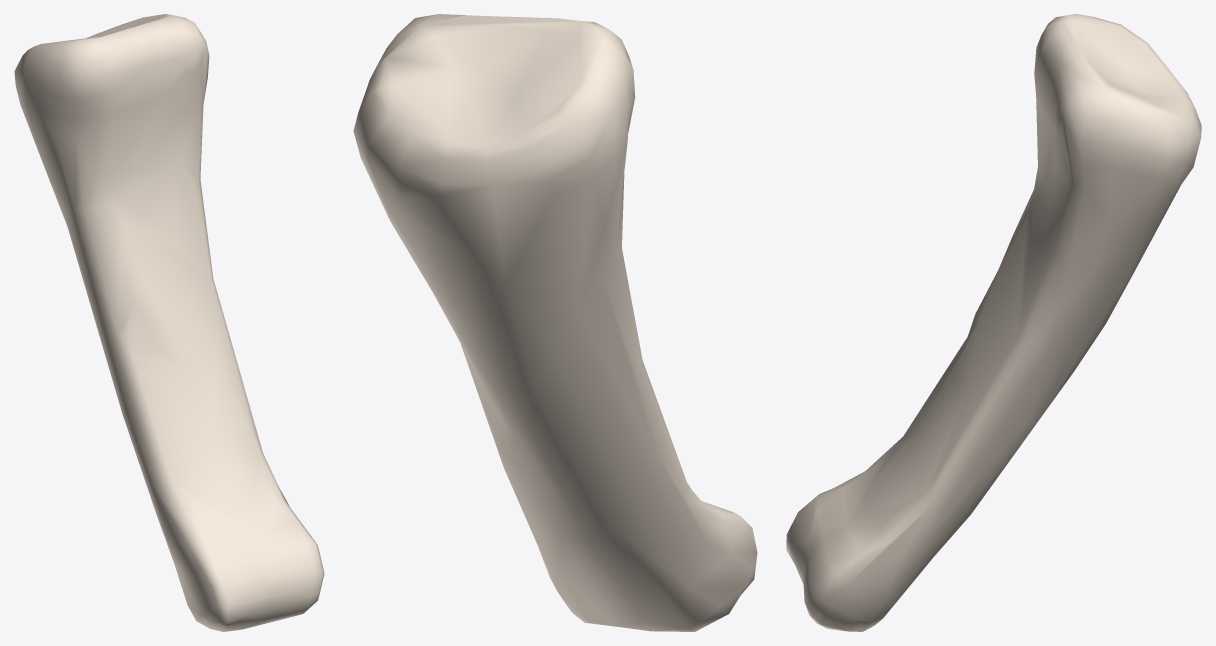
The model's file is left_digit_4_proximal.glb.
3 renders of one model, left to right at view 1: azimuth 30°, elevation 25°; view 2: azimuth 150°, elevation 25°; view 3: azimuth 270°, elevation 25°, orthographic. The views are drawn at different scales.
Visible parts, largest first — view 1: Proximal phalanx of 4th finger.r; view 2: Proximal phalanx of 4th finger.r; view 3: Proximal phalanx of 4th finger.r.
Part boxes in pixels (box(x1,y1,x2,y2)): Proximal phalanx of 4th finger.r: box(14, 14, 324, 631); Proximal phalanx of 4th finger.r: box(353, 14, 757, 631); Proximal phalanx of 4th finger.r: box(786, 14, 1201, 631).
Size of the model in its own units: 0.0137 by 0.0402 by 0.0268.
